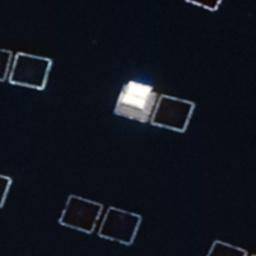square_solid: (3, 46, 59, 96), (55, 191, 110, 238), (148, 90, 198, 137), (95, 203, 146, 248), (204, 238, 253, 255), (1, 37, 17, 87), (180, 1, 226, 15), (1, 168, 15, 214)
